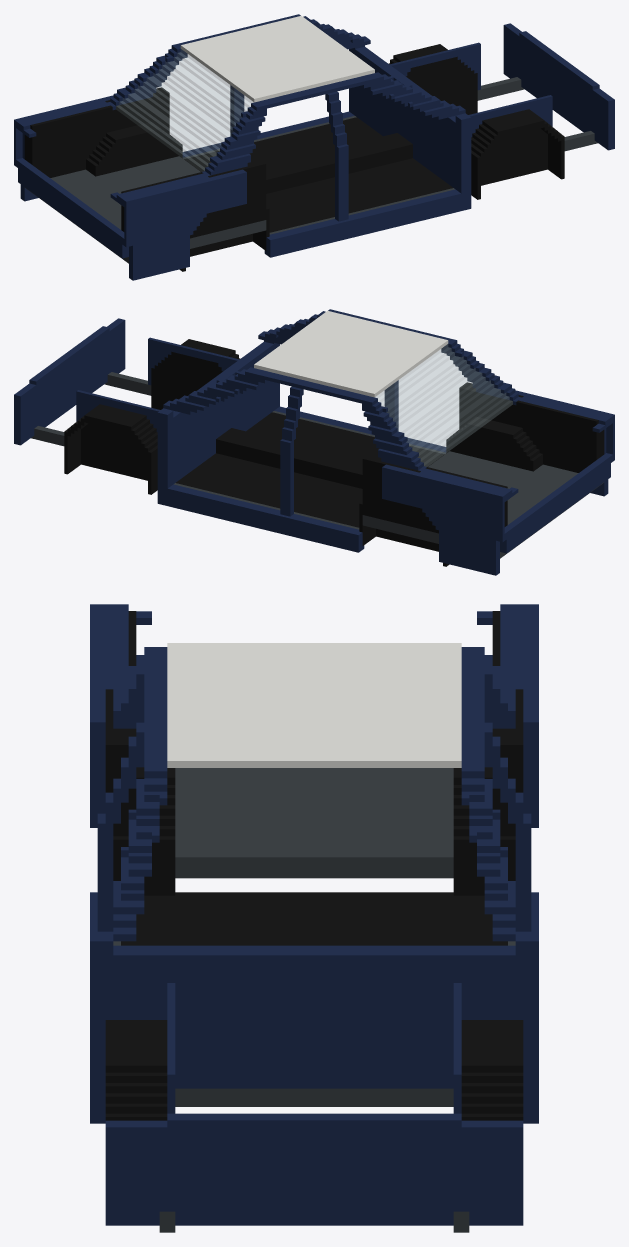
Rendered from police_car_shell.glb.
3 views of the same model, one above another, from view 1: azimuth 30°, elevation 25°; view 2: azimuth 150°, elevation 25°; view 3: azimuth 270°, elevation 25° (orthographic). The views are drawn at different scales.
Visible parts, largest first — view 1: body:compound; view 2: body:compound; view 3: body:compound.
Part boxes in pixels (x1,y1,x2,y2): body:compound: (14,14,614,280); body:compound: (14,309,614,575); body:compound: (90,604,538,1232).
Size of the model in its own units: 4.59 by 1.28 by 1.81.
